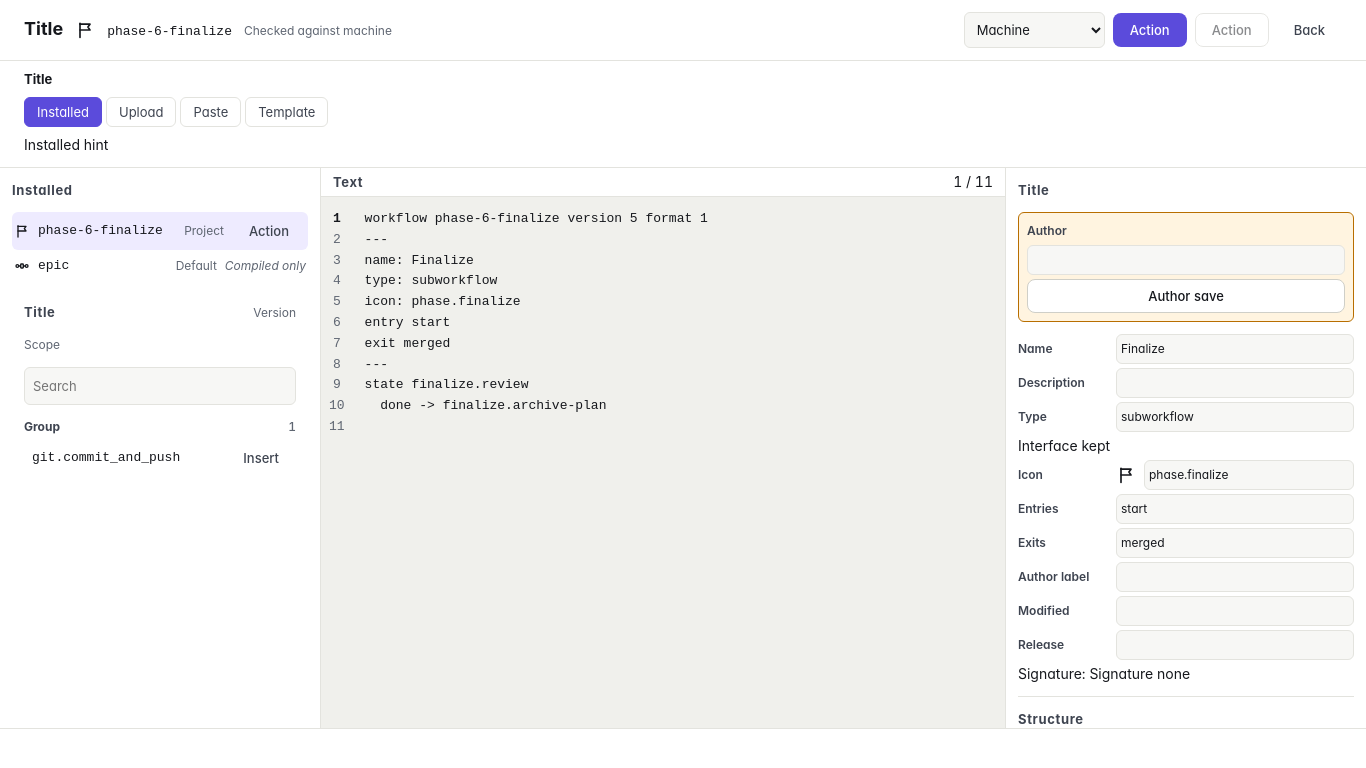
Test: ProcessDesigner view › validates the text and enables placing for a valid unit
Click the button with test id "validate-button" at x=1150, y=30, box [1113,13,1187,47]
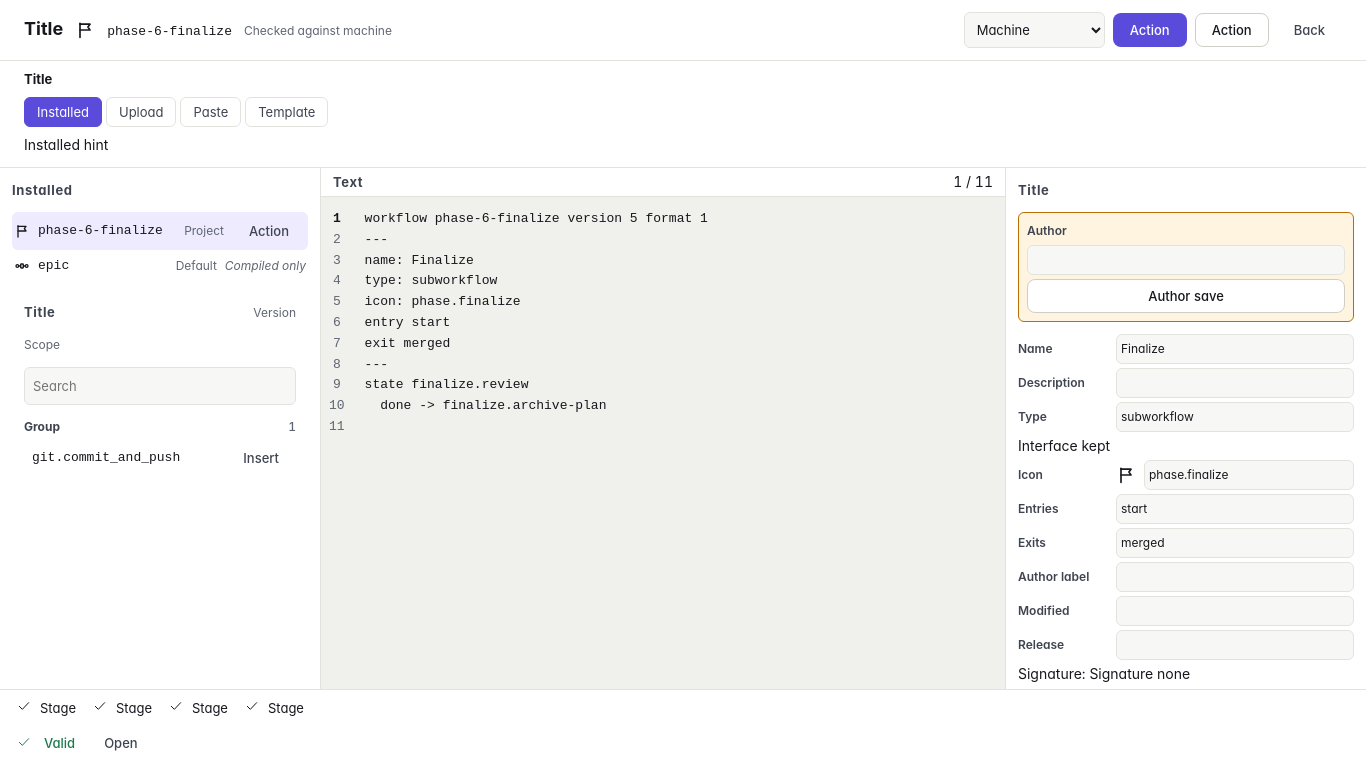
Expected: the element with test id "validation-valid" is shown, [16,726,155,760]
Expected: the button with test id "place-button" is enabled, [1195,13,1269,47]
